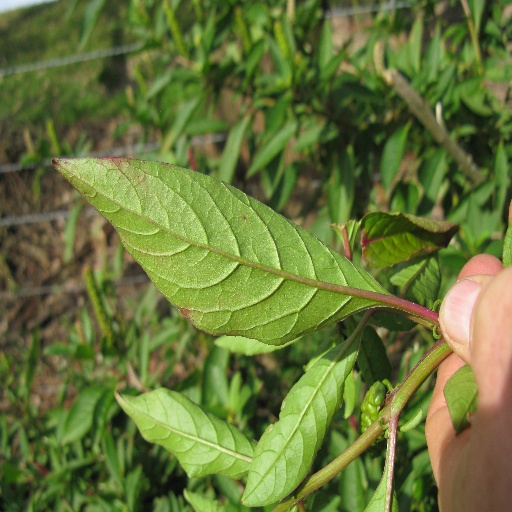hand: (419, 206, 512, 490)
